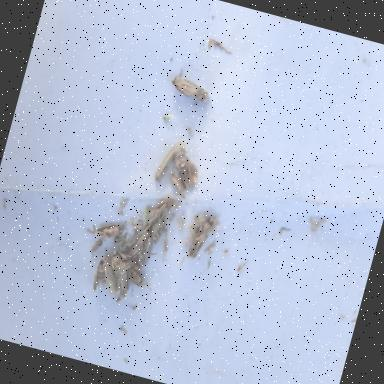pbw: (175, 209, 219, 271), (168, 148, 204, 192), (153, 136, 184, 186), (168, 72, 213, 104), (142, 192, 176, 232), (96, 255, 127, 297), (111, 254, 138, 301), (90, 255, 114, 295), (130, 232, 154, 268), (126, 226, 149, 262), (94, 220, 124, 246), (166, 172, 192, 202), (126, 264, 150, 288), (106, 249, 125, 279), (88, 237, 104, 256)
